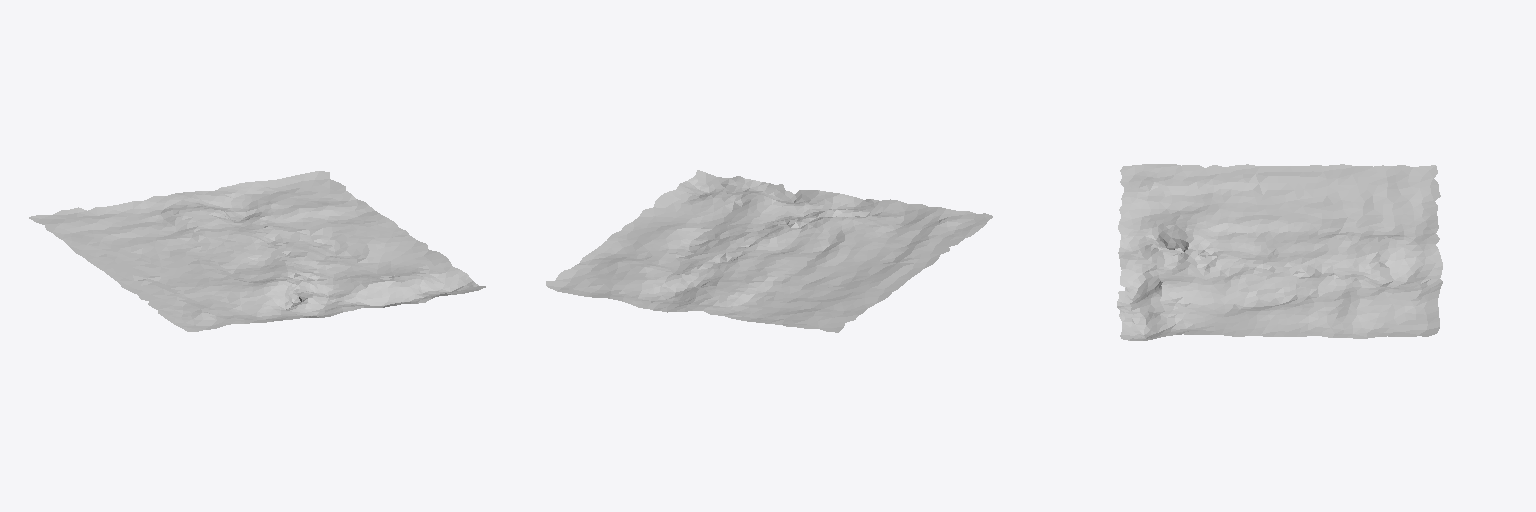
Rendered from ground.obj.
The picture shows the model from 3 angles: view 1: azimuth 30°, elevation 25°; view 2: azimuth 150°, elevation 25°; view 3: azimuth 270°, elevation 25°; orthographic projection.
Parts seen in each view (by area): view 1: Plane.008; view 2: Plane.008; view 3: Plane.008.
Boxes of the visible parts, x1,y1,x2,y2 form: Plane.008: [29, 171, 485, 331]; Plane.008: [546, 170, 992, 332]; Plane.008: [1117, 164, 1442, 340].
Bounding box in the file's own units: 189 × 22.68 × 179.